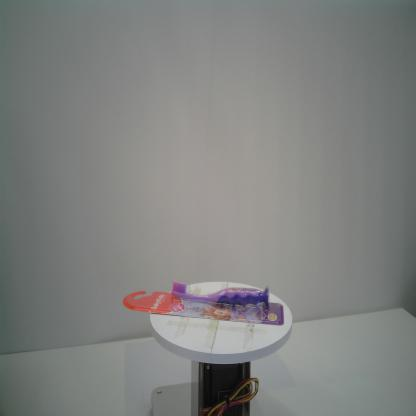Personal Hygiene: (122, 279, 285, 327)
